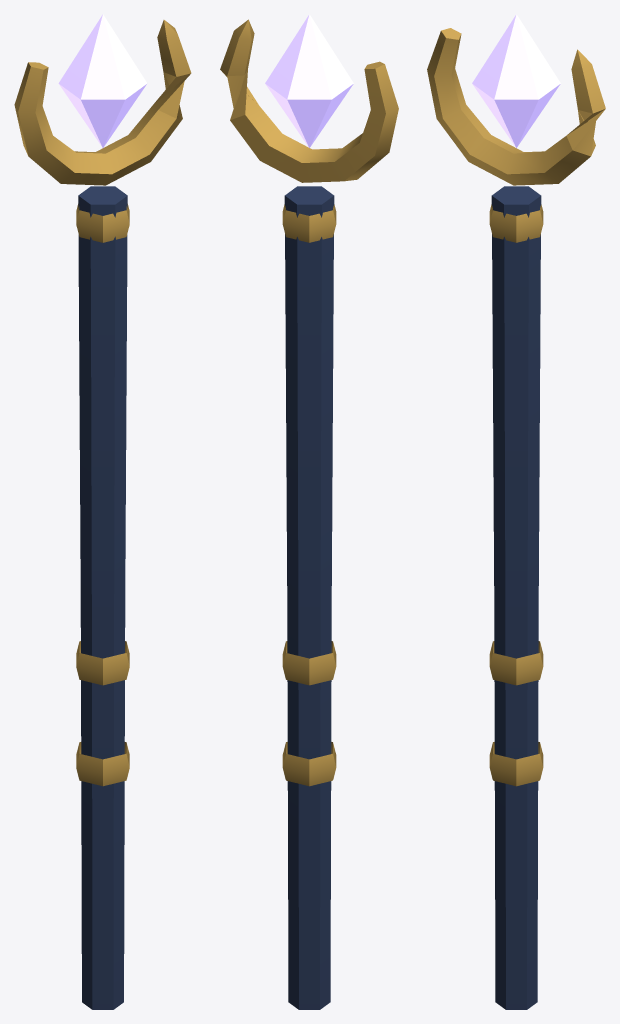
Rendered from staff-rune.glb.
3 renders of one model, left to right at view 1: azimuth 30°, elevation 25°; view 2: azimuth 150°, elevation 25°; view 3: azimuth 330°, elevation 25°, orthographic.
Visible parts, largest first — view 1: staff-rune; view 2: staff-rune; view 3: staff-rune.
Part boxes in pixels (x1,y1,x2,y2): staff-rune: [14, 14, 191, 1009]; staff-rune: [220, 14, 398, 1009]; staff-rune: [427, 14, 605, 1009].
Size of the model in its own units: 0.1628 by 0.882 by 0.072.
